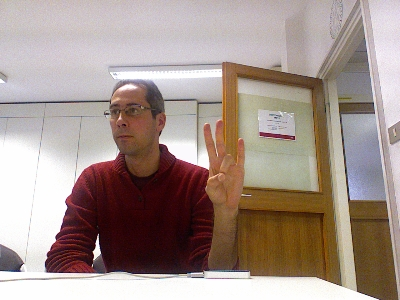观音: (201, 119, 246, 207)
